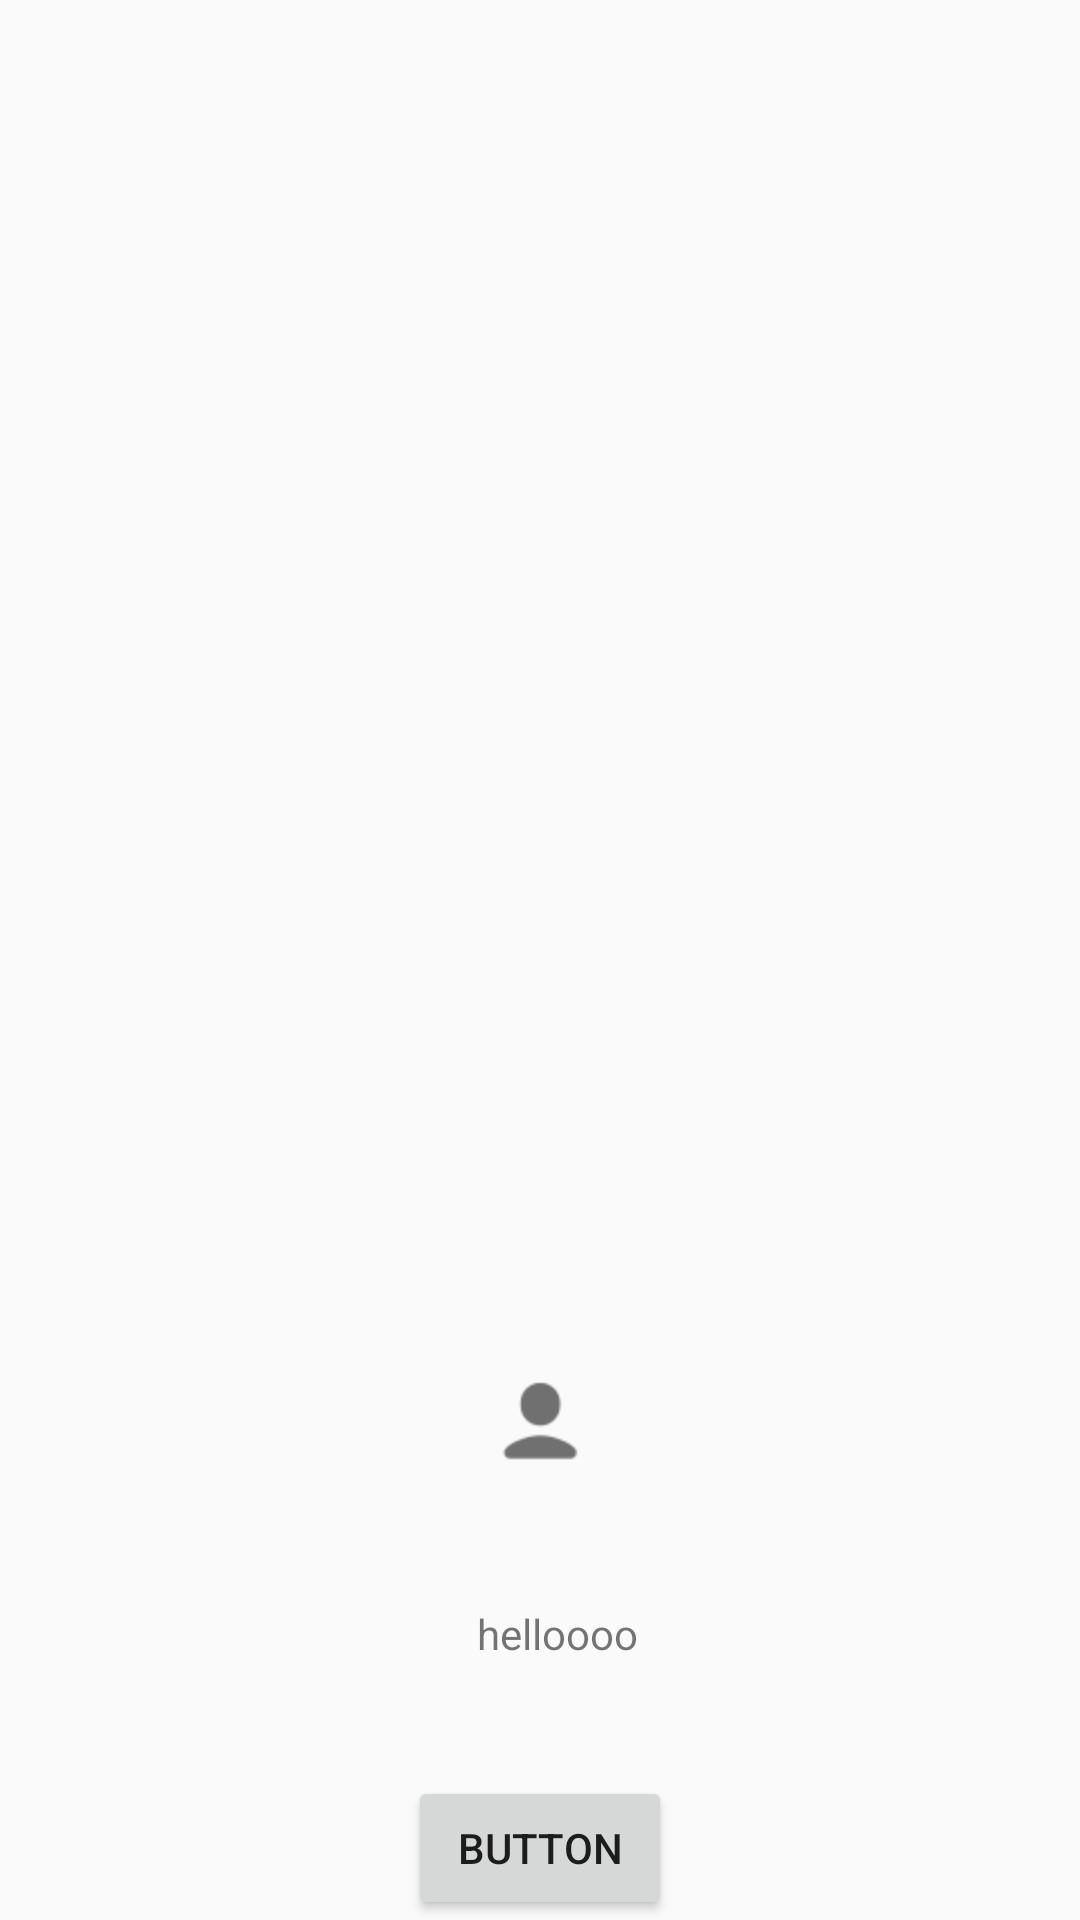

Named icons in this screenshot (1080 x 1920) and their bounding boxes, Rect(x1, y1, x2, y2):
user: Rect(503, 1382, 577, 1460)
